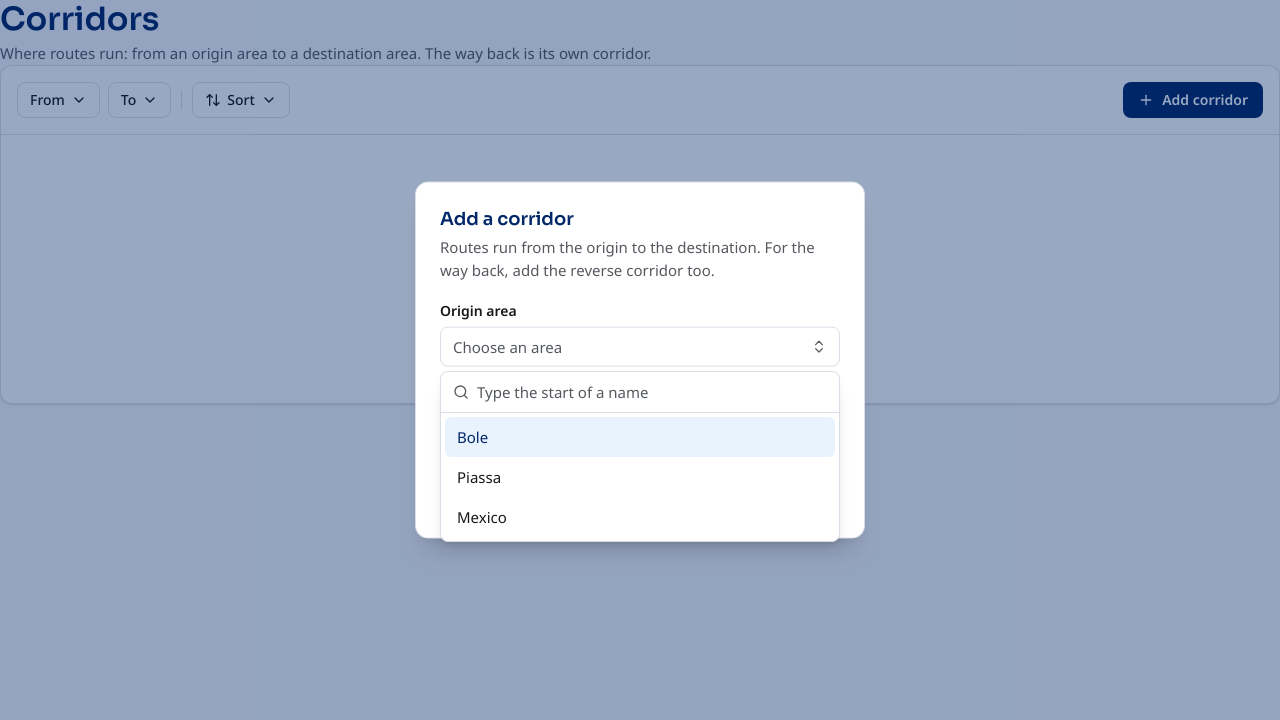
it: CorridorsScreen › puts an area the API doesn't know on its picker and focuses it
Earlier steps of the test are not shown.
Type "Bol" into the dropdown named "Search areas" at (652, 392), box [477, 372, 827, 412]
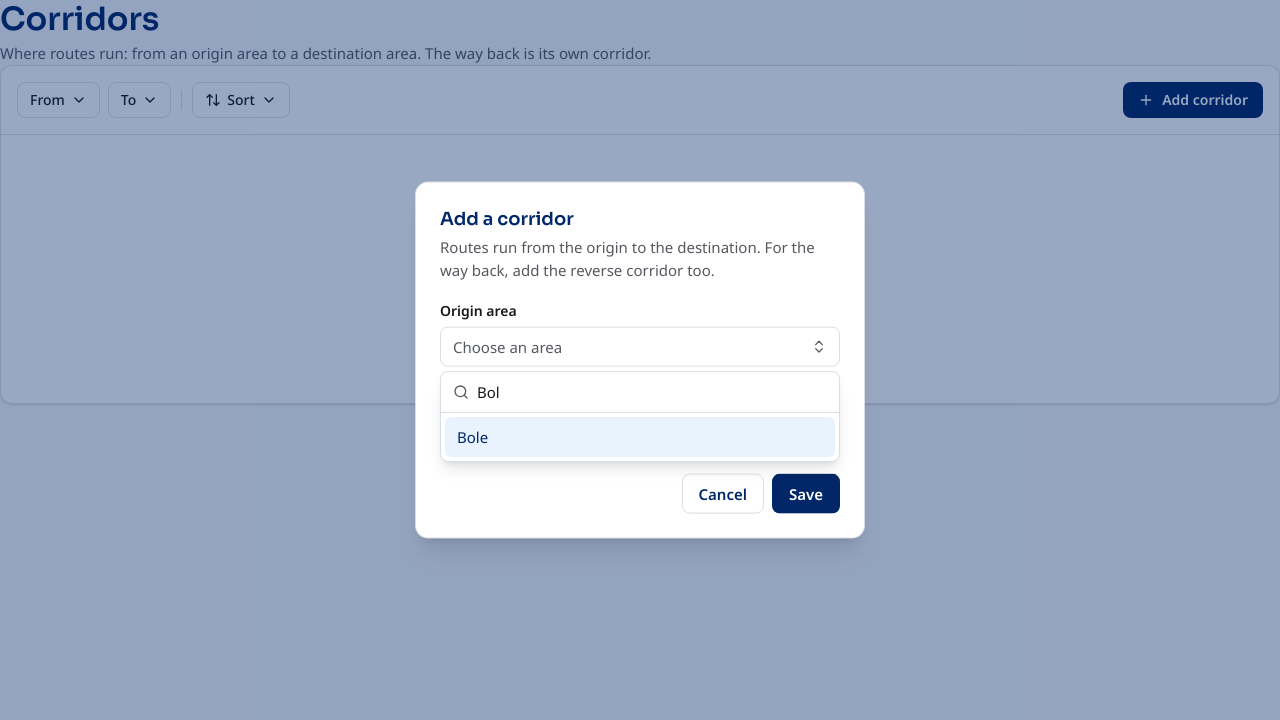
Click the option "Bole" at (473, 437), box [445, 417, 835, 457]
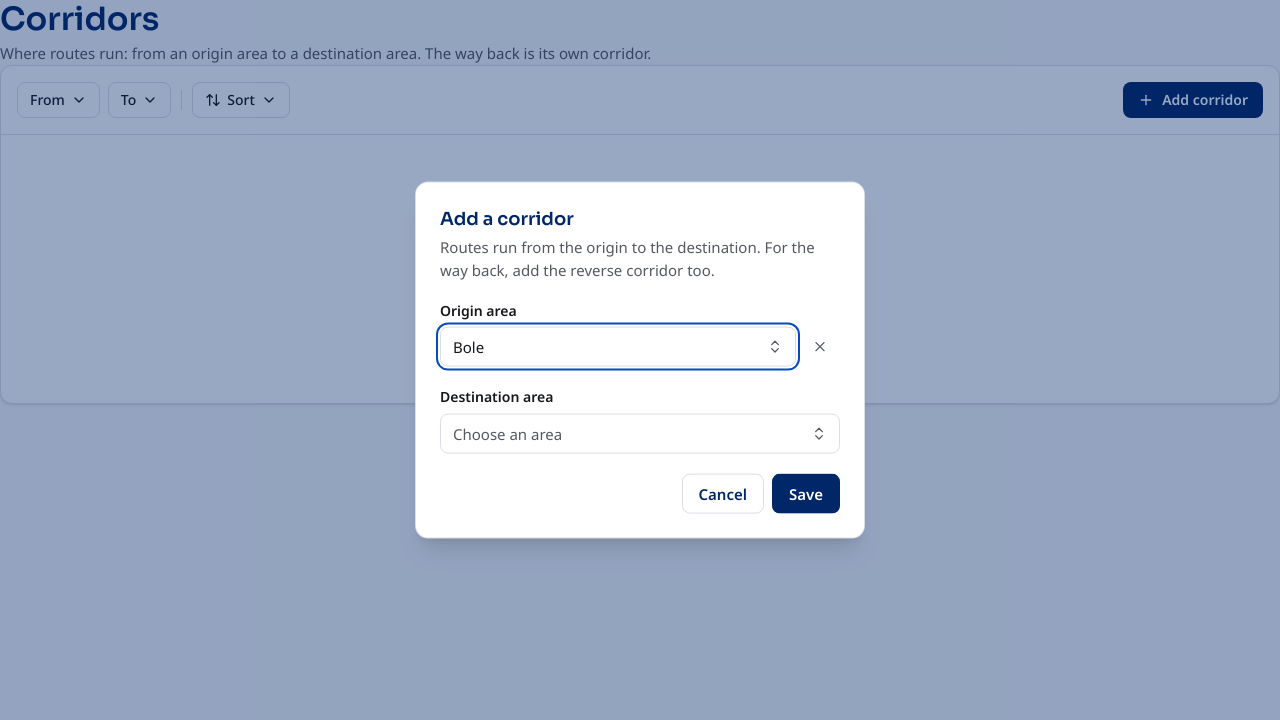
Click the dropdown named "Destination area" at (508, 433), box [440, 413, 840, 453]
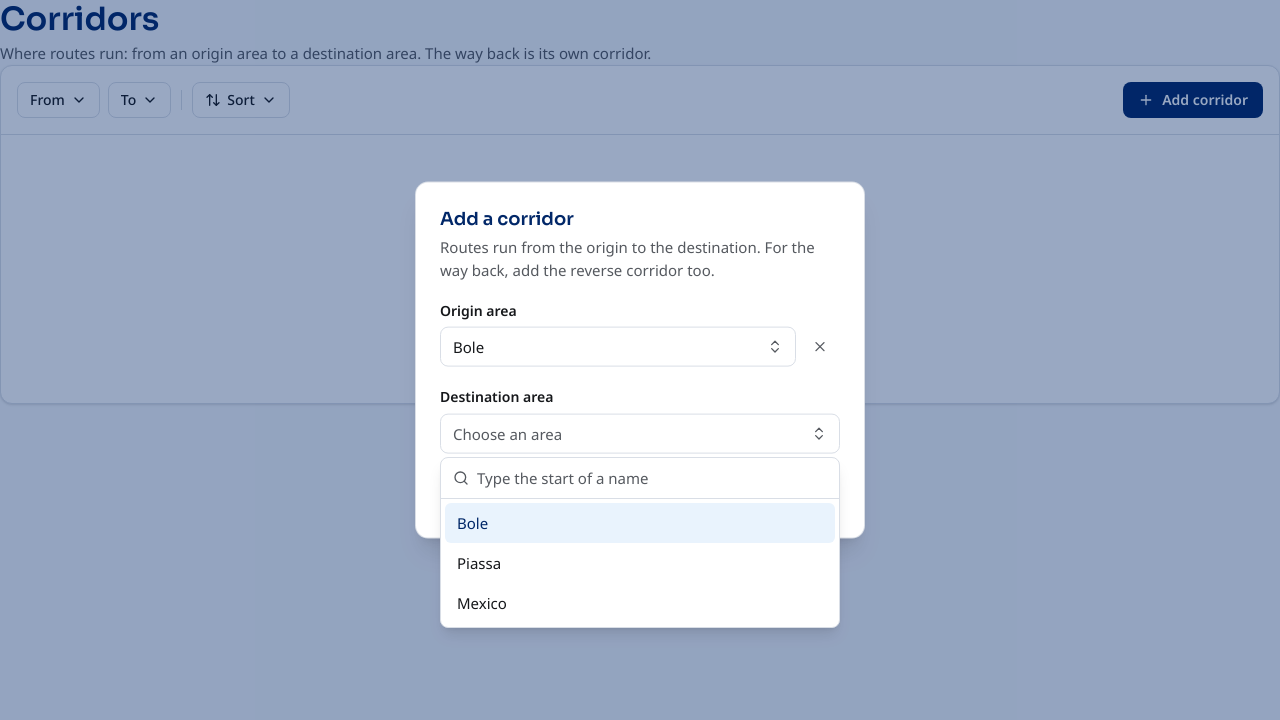
Type "Pia" into the dropdown named "Search areas" at (652, 478), box [477, 458, 827, 498]
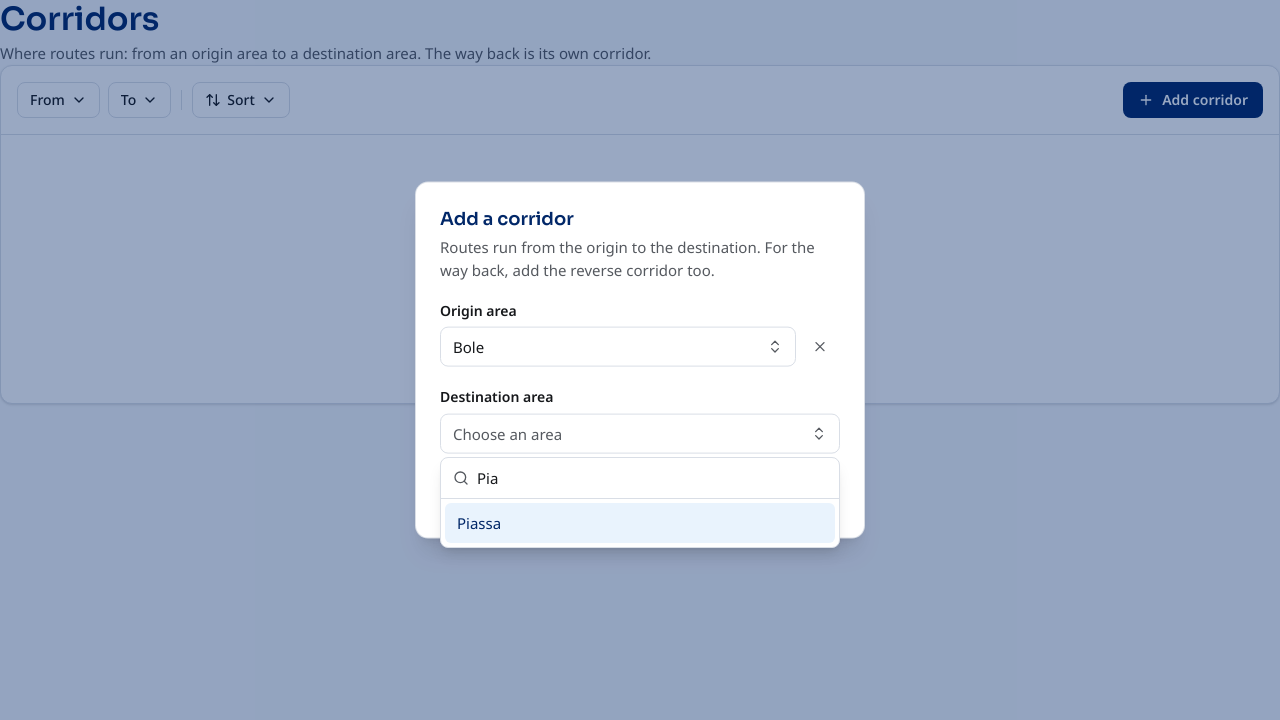
Click the option "Piassa" at (479, 523), box [445, 503, 835, 543]
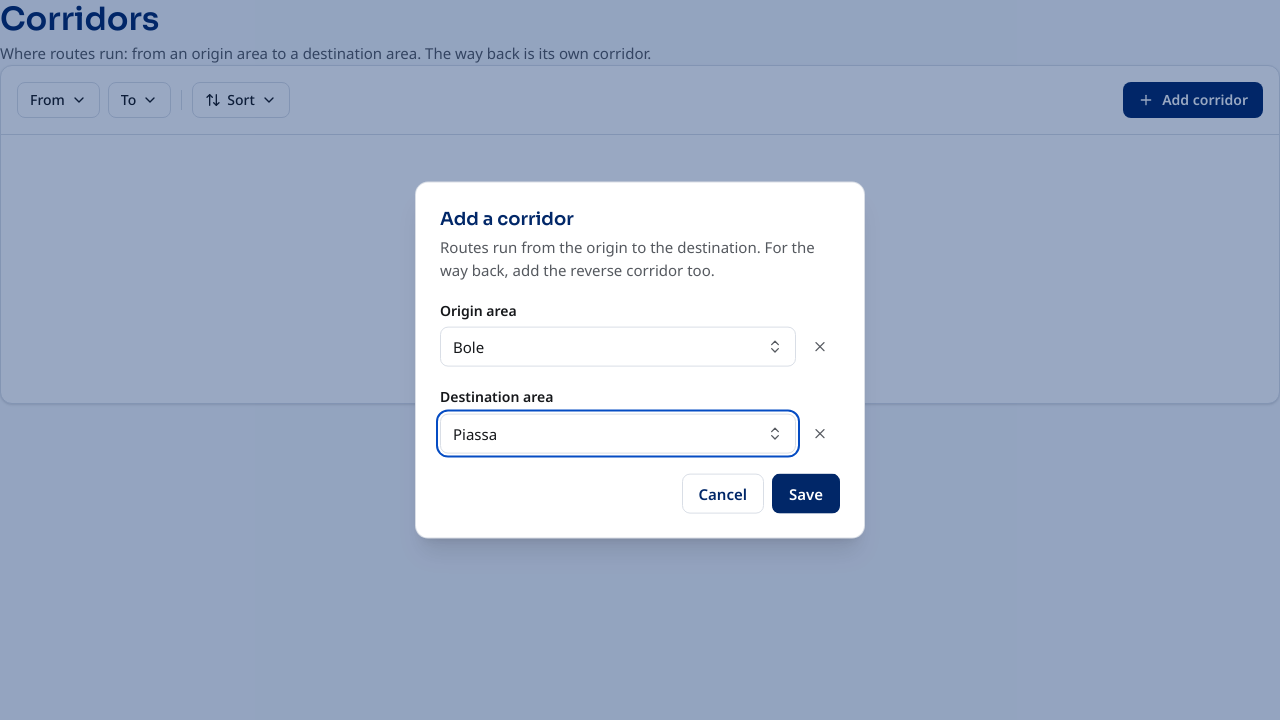
Click the button "Save" at (806, 493), box [772, 473, 840, 513]
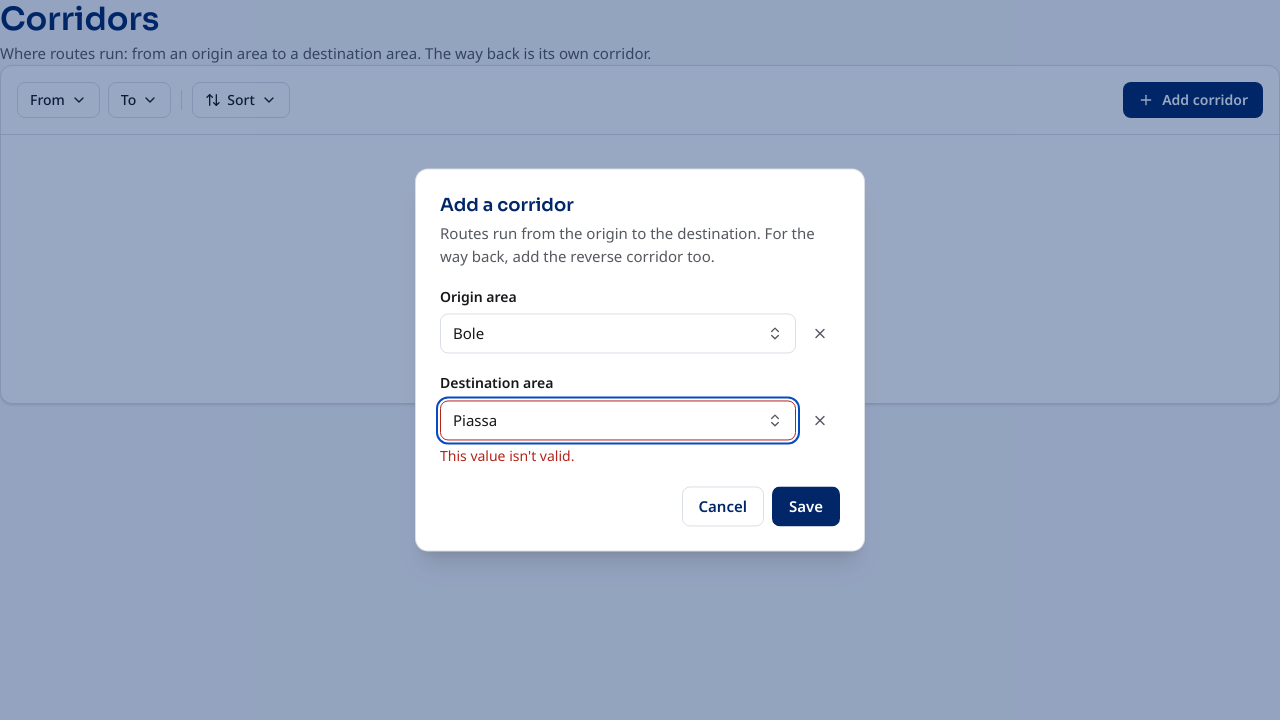
Check: the dropdown named "Destination area" is marked as invalid, box [440, 400, 796, 440]
